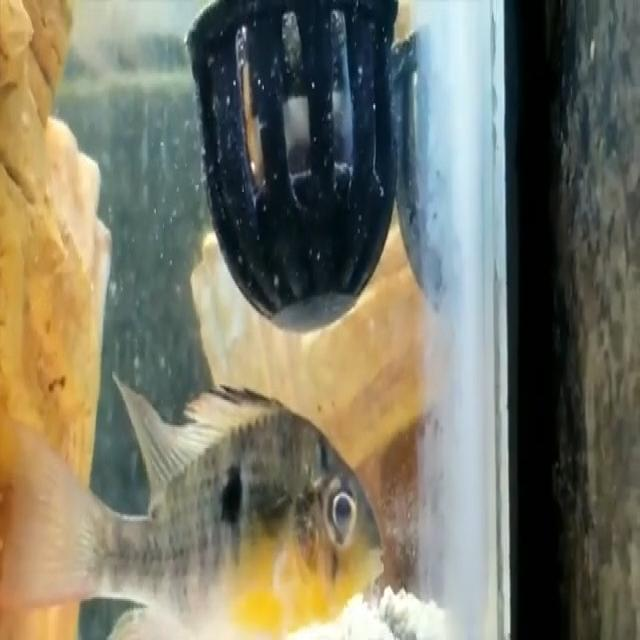fish: (20, 362, 389, 640)
